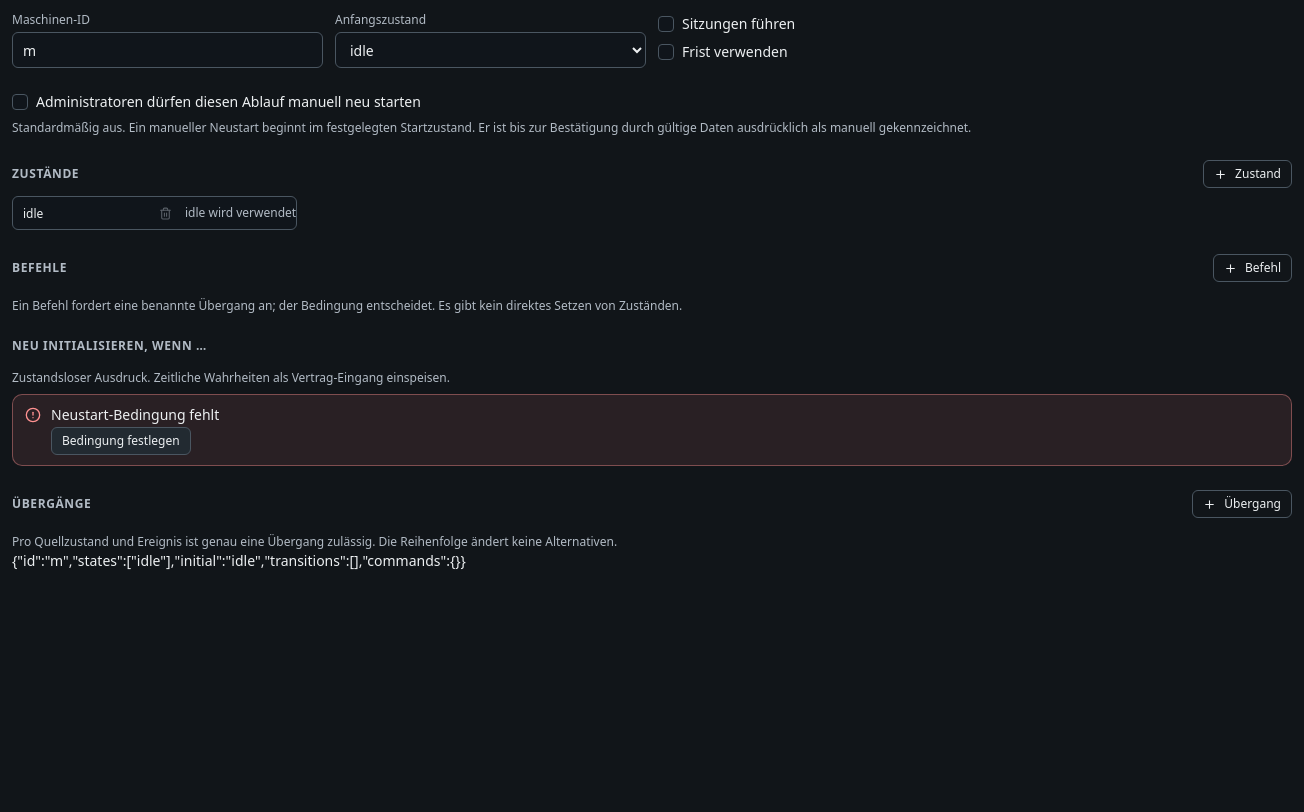
Test: shows a missing restart condition and explicitly writes it on request
The width and height of the screenshot is (1304, 812).
Expected: the text "Neustart-Bedingung fehlt" is shown, [51,405,219,425]
Click the button "Bedingung festlegen": click(121, 441) [51,427,191,455]
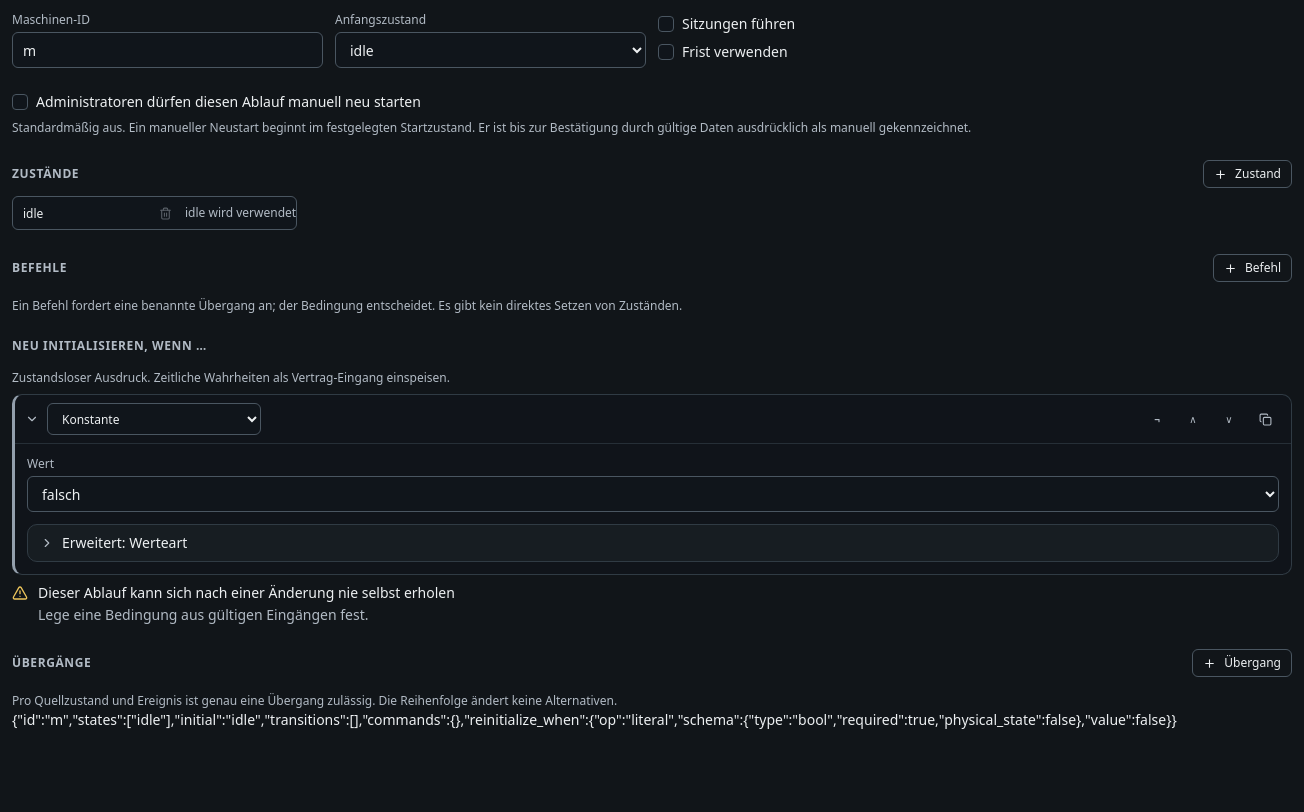
Result: the text "Dieser Ablauf kann sich nach einer Änderung nie selbst erholen" is shown at [38,583,455,603]
